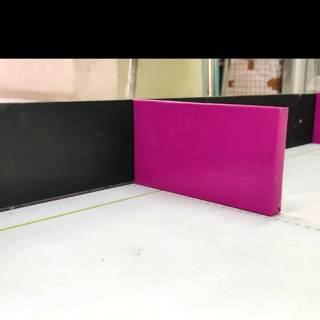xparking: (138, 110, 278, 216)
